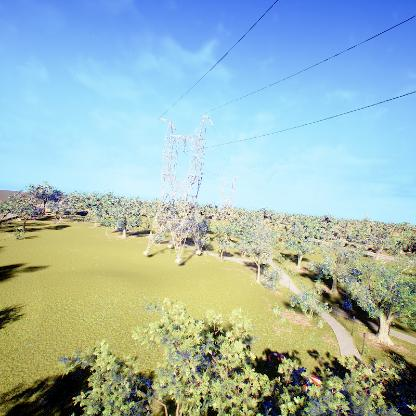tower: (141, 113, 222, 271)
